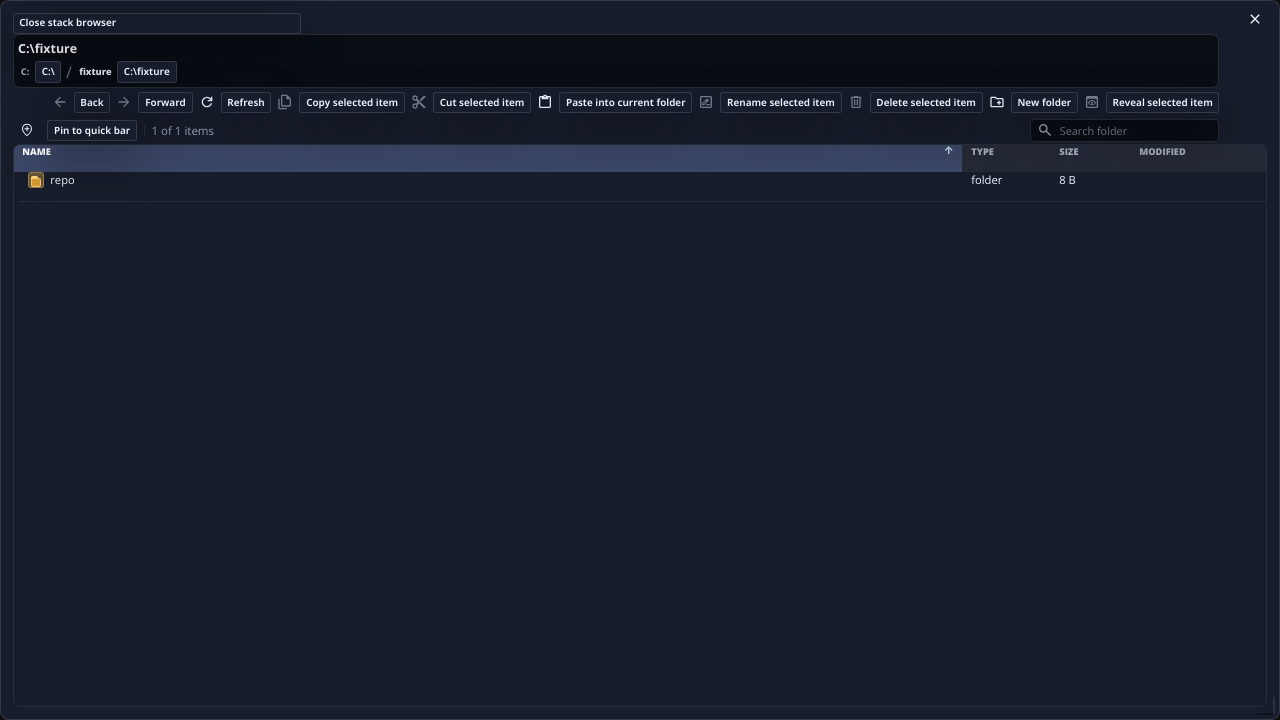
Test case: Back closes loading editor without folder navigation
The width and height of the screenshot is (1280, 720).
Double-click the text "repo" at (62, 180), box x1=50 y1=172 x2=75 y2=188
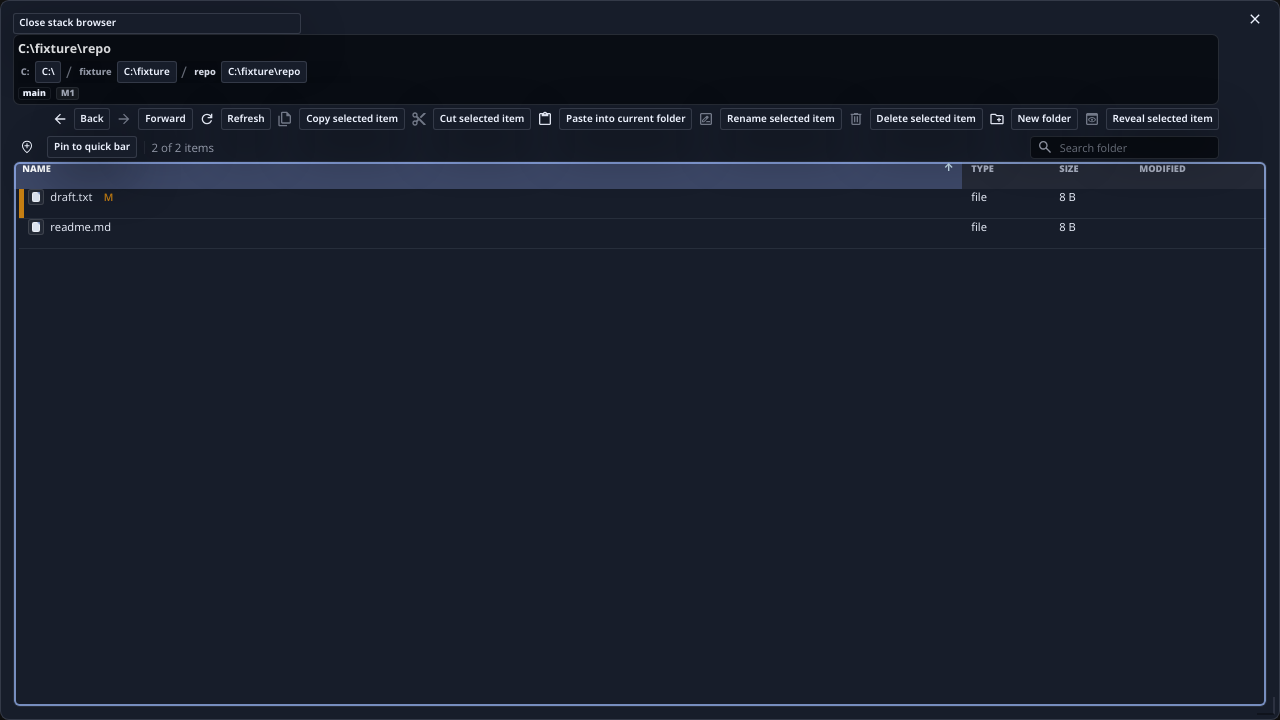
Now the text "draft.txt" is shown
Double-click the text "draft.txt" at (71, 197), box x1=50 y1=189 x2=92 y2=204
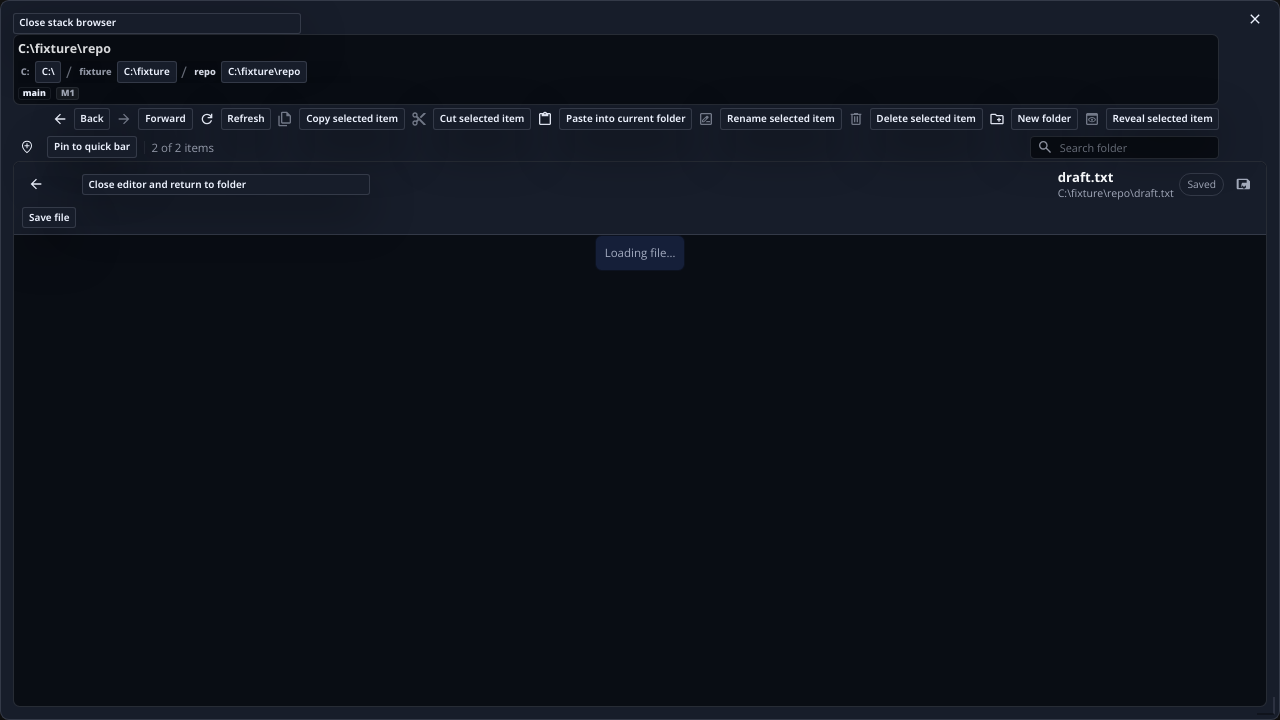
Press the mouse on the button named "Close editor and return to folder" at (36, 184), box x1=22 y1=170 x2=50 y2=198
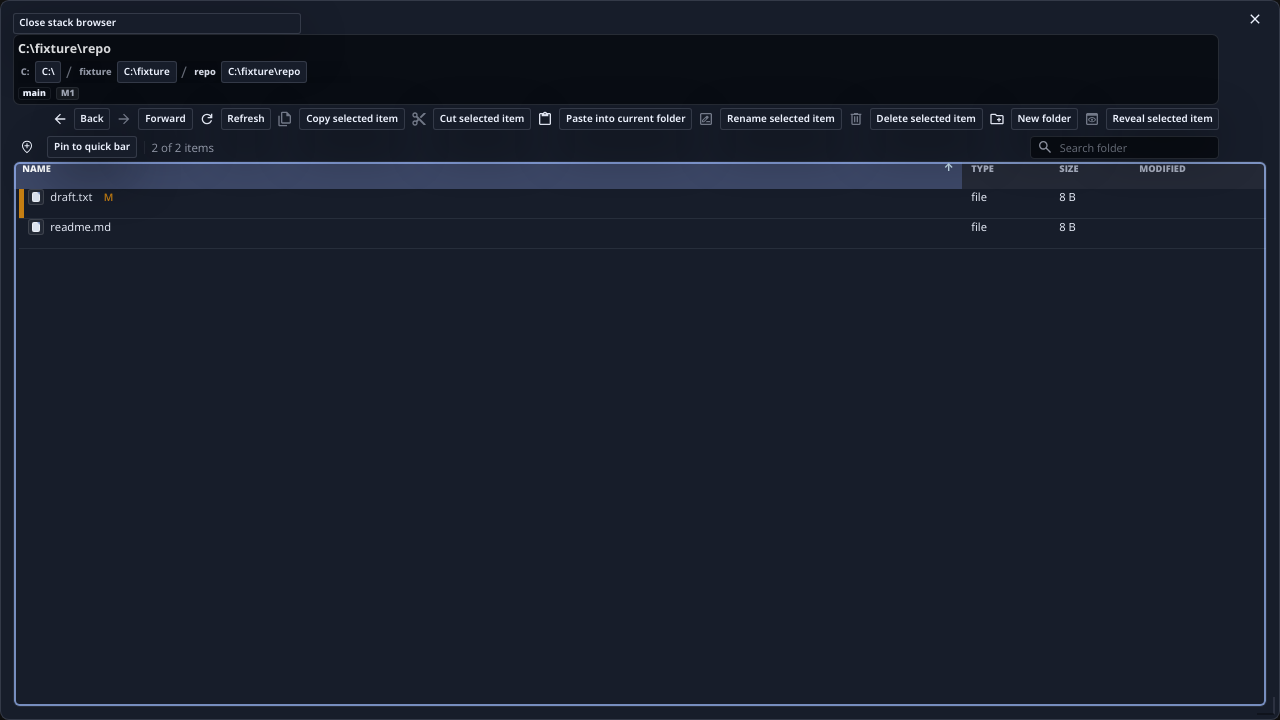
Now the table named "Folder details" is shown
